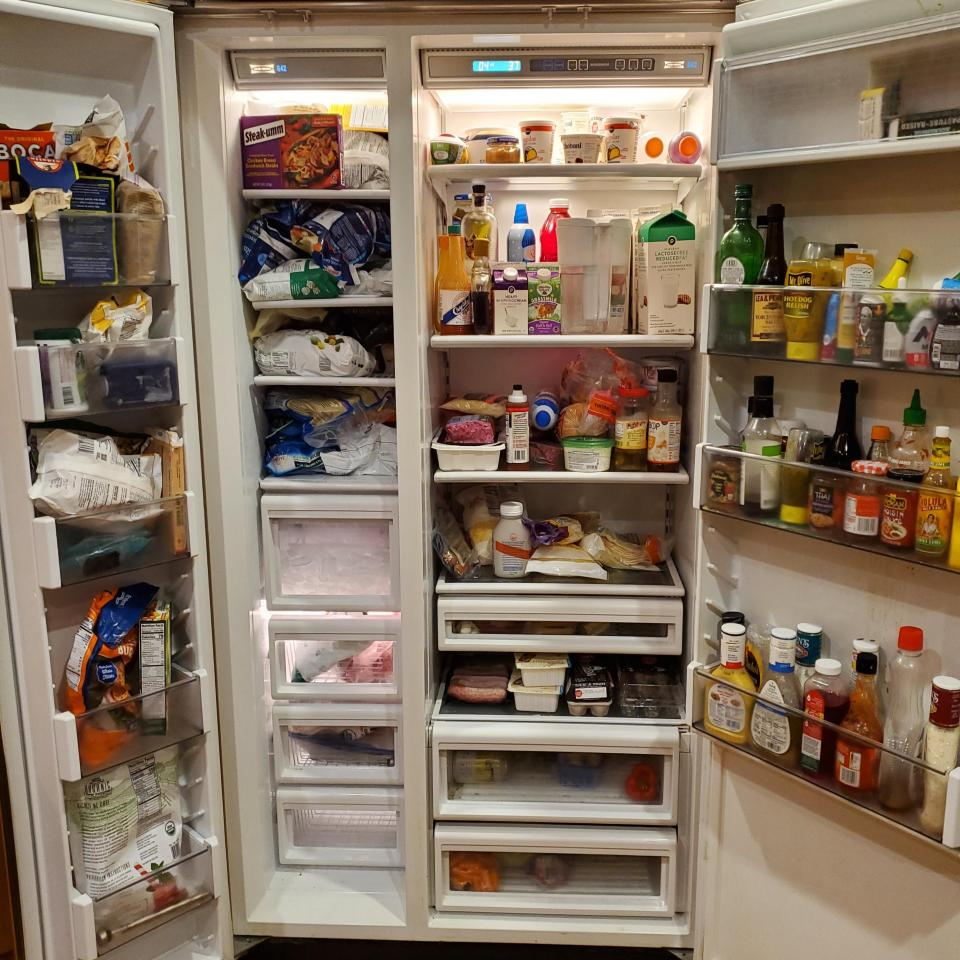Huevos: (564, 663, 615, 716)
Leche: (638, 203, 696, 336)
Zanahoria: (450, 852, 500, 892)
mustard: (704, 624, 758, 744)
